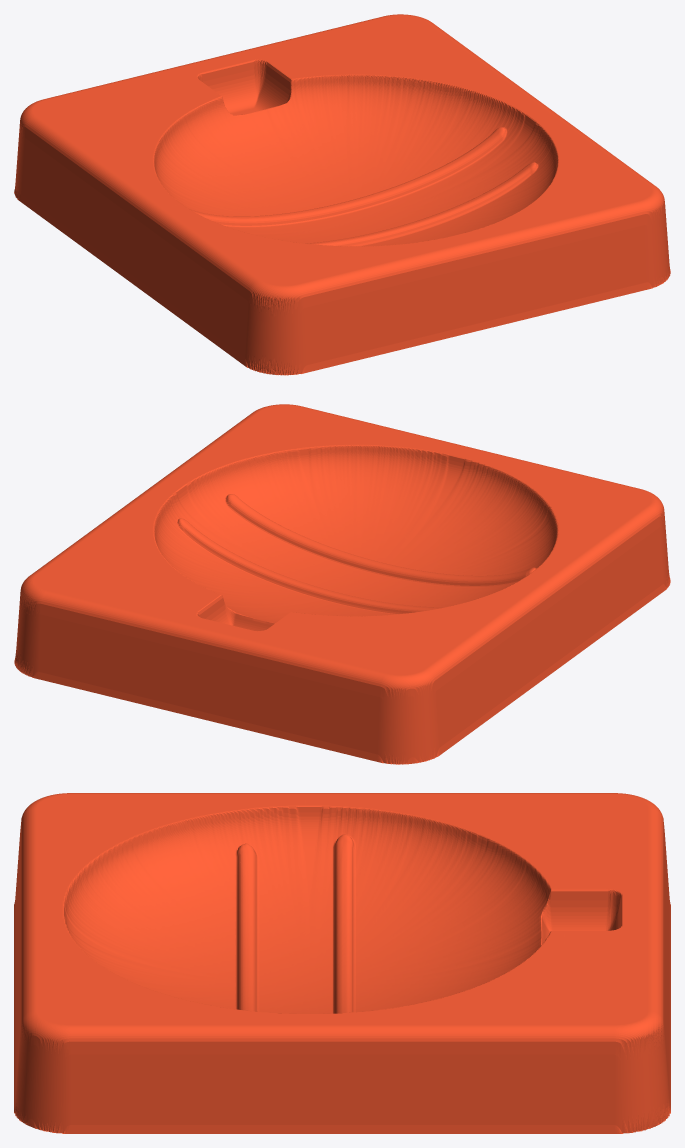
Rendered from mold.glb.
3 views of the same model, one above another, from view 1: azimuth 30°, elevation 25°; view 2: azimuth 150°, elevation 25°; view 3: azimuth 270°, elevation 25° (orthographic). The views are drawn at different scales.
Visible parts, largest first — view 1: geometry_0; view 2: geometry_0; view 3: geometry_0.
Part boxes in pixels (bbox=[...]): geometry_0: bbox=[14, 14, 670, 375]; geometry_0: bbox=[14, 404, 670, 764]; geometry_0: bbox=[14, 793, 670, 1133].
Size of the model in its own units: 0.0944 by 0.0175 by 0.105.
